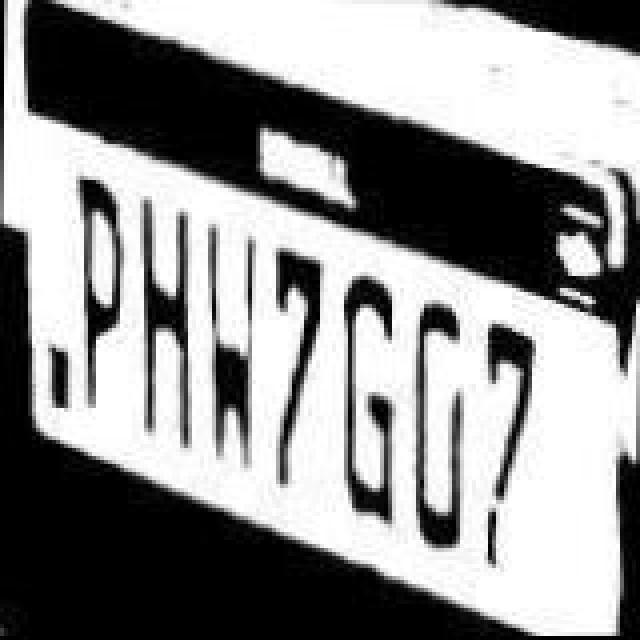7: (480, 328, 564, 568), (264, 246, 336, 502)
D: (412, 298, 480, 550)
G: (332, 272, 408, 524)
H: (126, 194, 194, 458)
P: (62, 166, 130, 426)
W: (196, 218, 268, 478)
